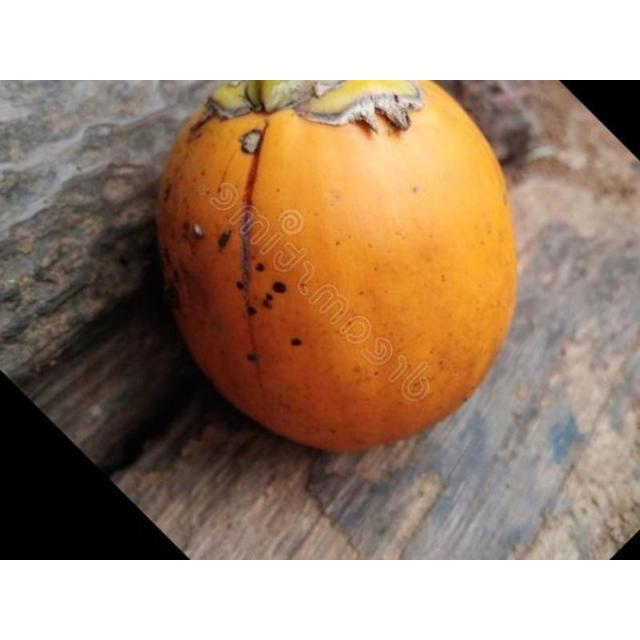good: (155, 80, 518, 454)
